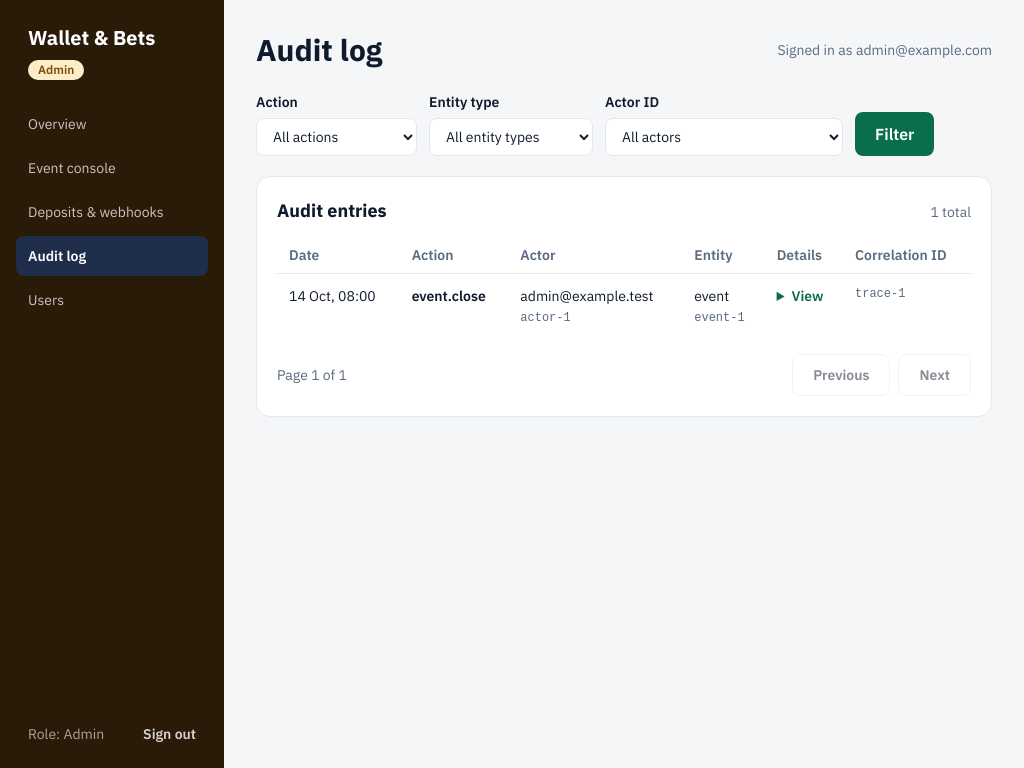
Admin audit log › filters and shows audit details and actor identity
Select "event.close" in the dropdown labelled "Action": (336,137) top-left (256, 118), bottom-right (417, 156)
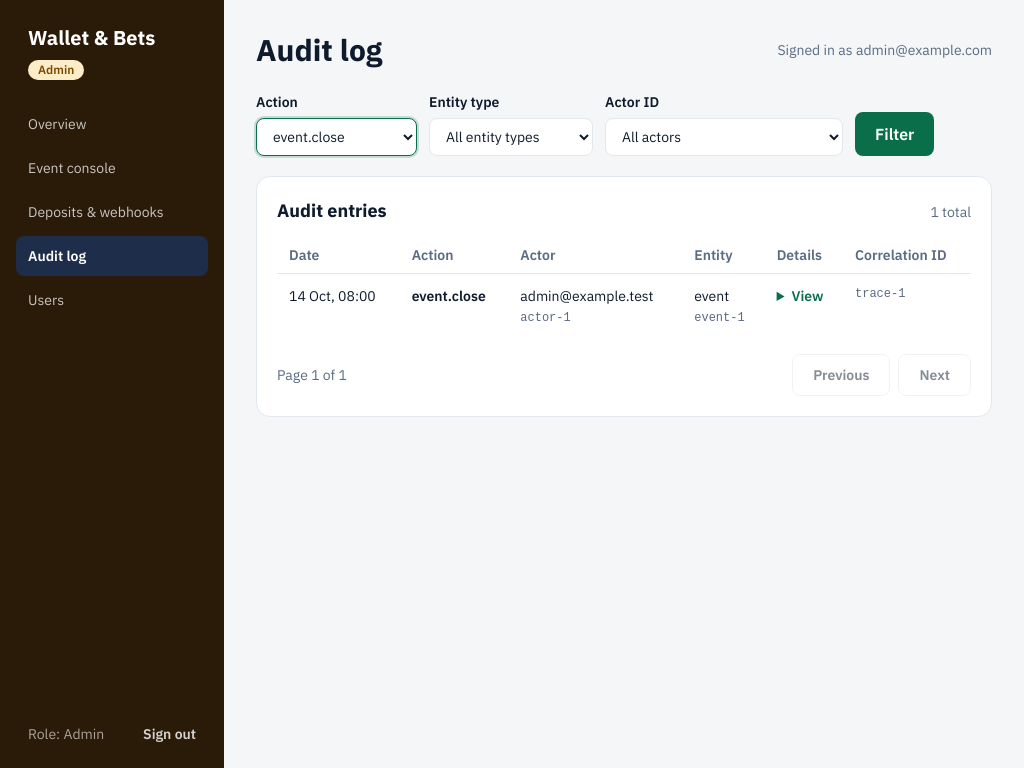
Select "event" in the dropdown labelled "Entity type": (511,137) top-left (429, 118), bottom-right (593, 156)
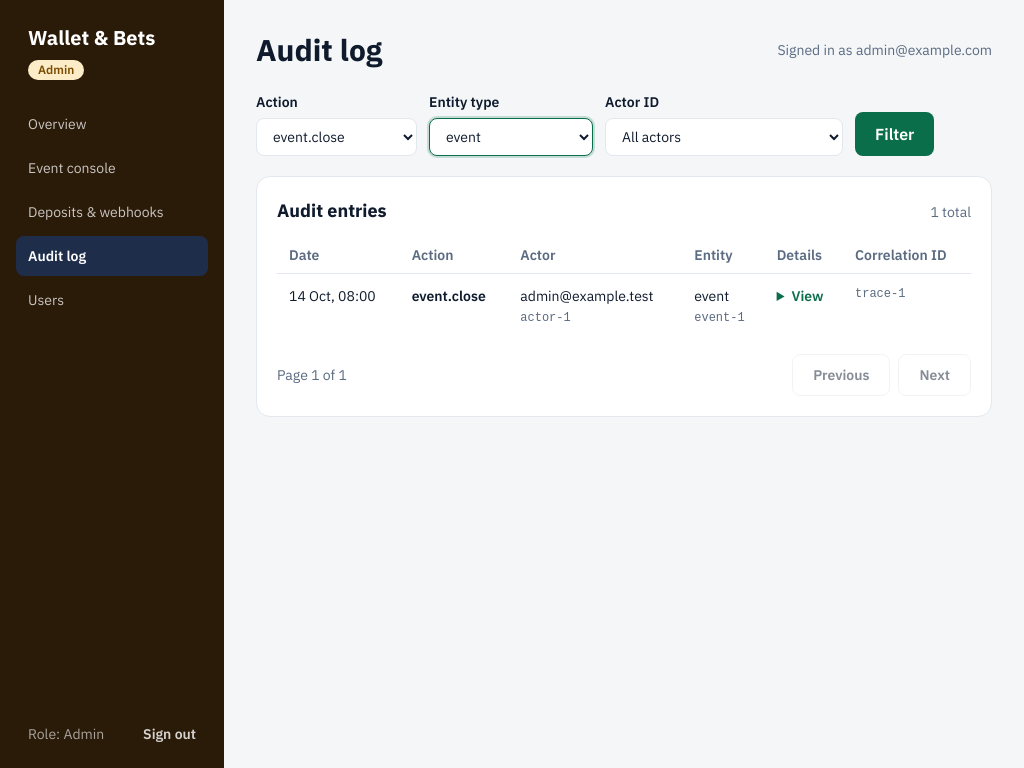
Select "admin@example.test (actor-1)" in the dropdown labelled "Actor ID": (724,137) top-left (605, 118), bottom-right (843, 156)
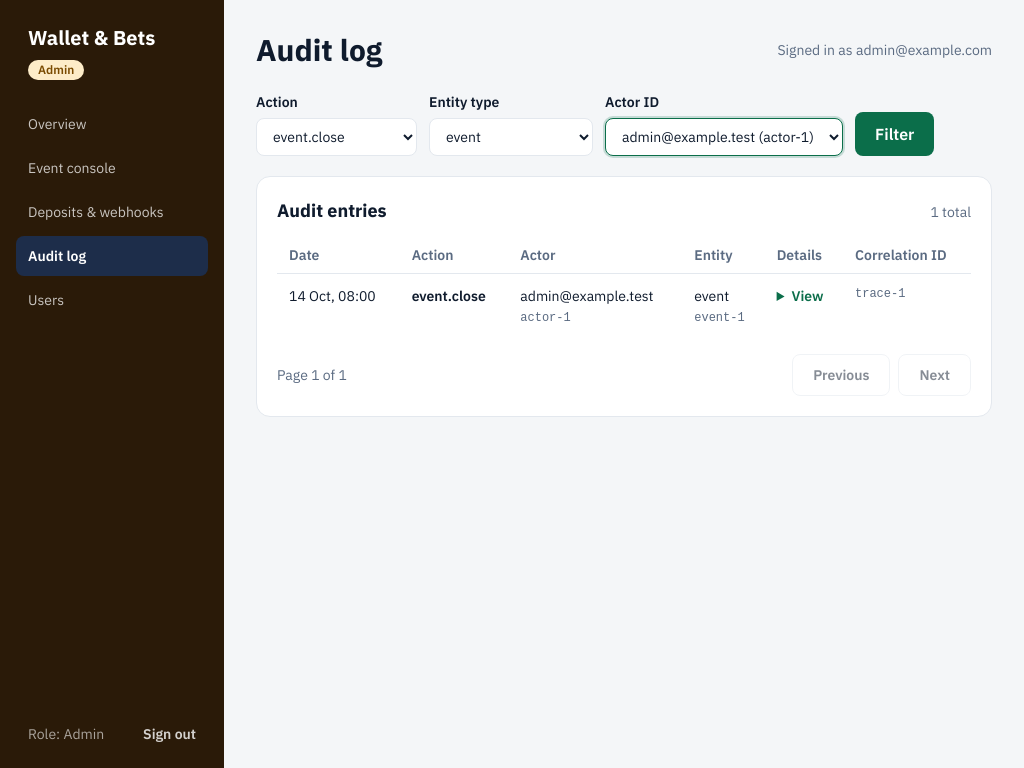
Click the button "Filter": (895,134) top-left (855, 112), bottom-right (934, 156)
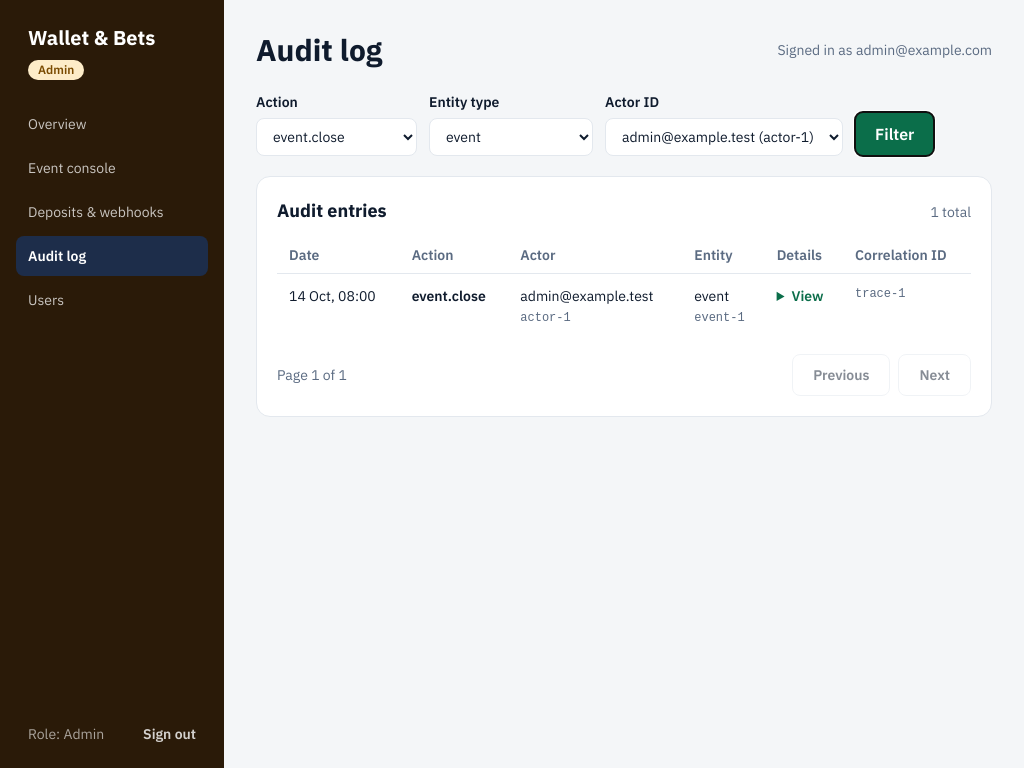
Expected: the cell "event.close" is shown, top-left (400, 274), bottom-right (508, 338)
Expected: the text "admin@example.test" is shown, top-left (520, 286), bottom-right (670, 306)
Click the heading "View": (808,296) top-left (792, 287), bottom-right (824, 305)
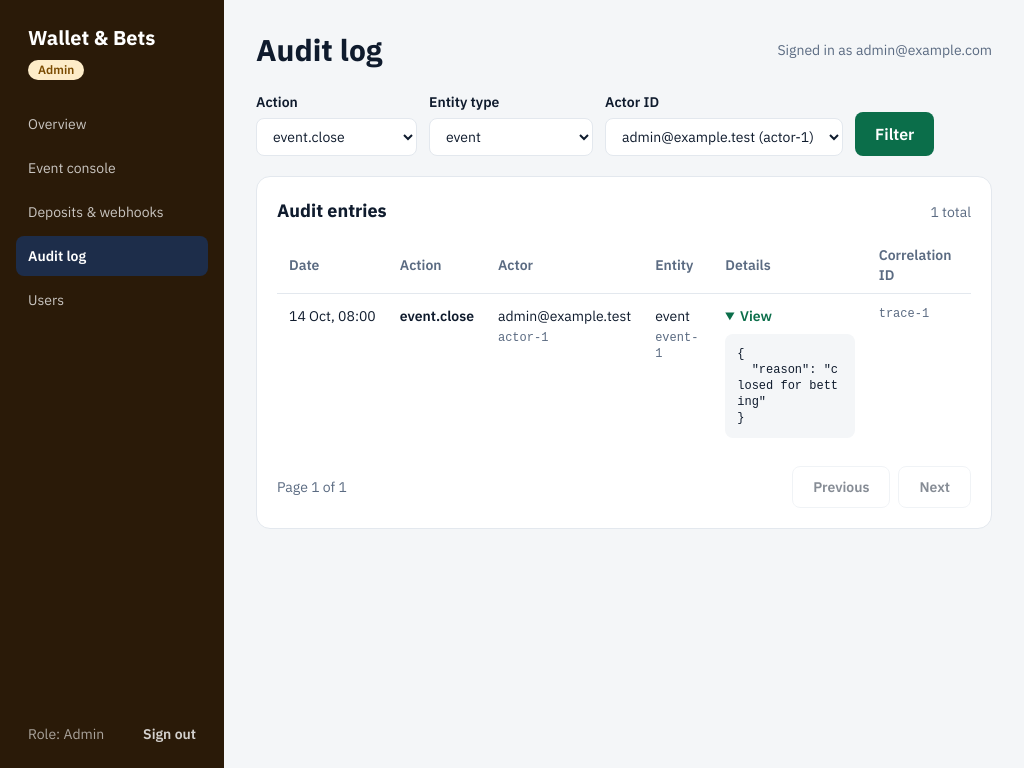
Expected: the text "actor-1" is shown, top-left (498, 331), bottom-right (548, 345)
Expected: the text "{ \"reason\": \"closed for betting\" }" is shown, top-left (725, 334), bottom-right (855, 438)
